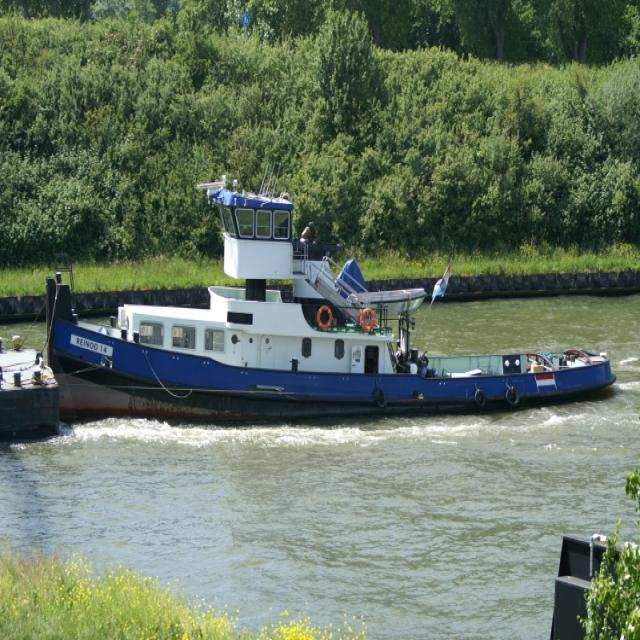tugboat: (42, 174, 621, 432)
